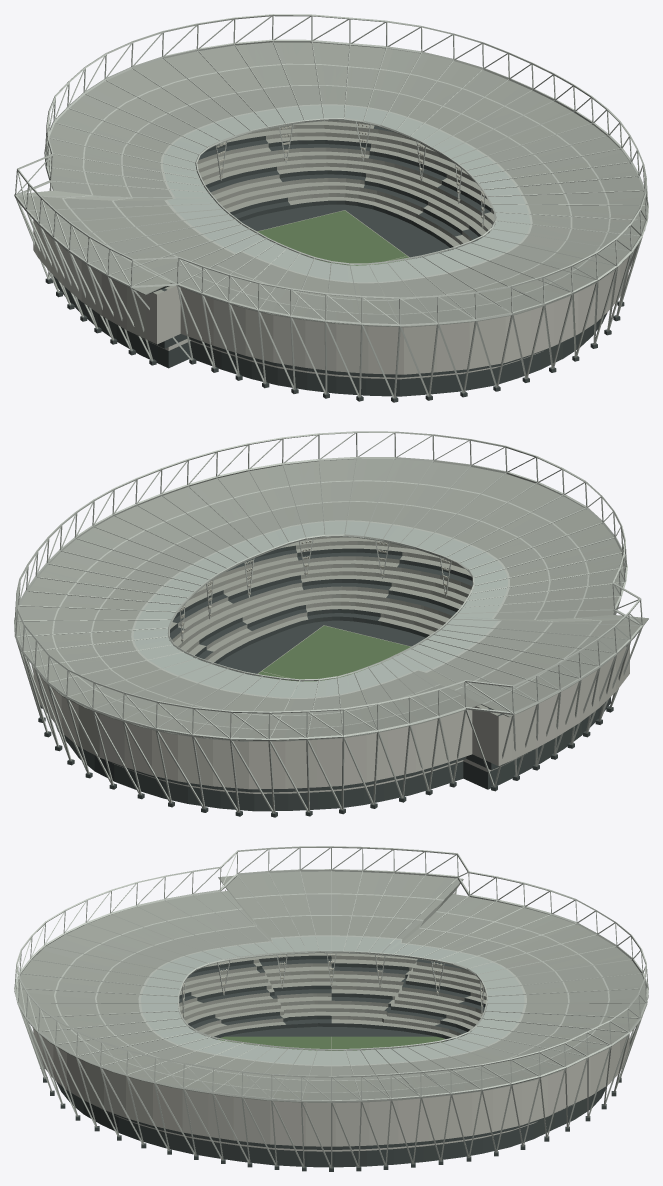
File: london-stadium-near.glb
3 views of the same model, one above another, from view 1: azimuth 30°, elevation 25°; view 2: azimuth 150°, elevation 25°; view 3: azimuth 270°, elevation 25° (orthographic). The views are drawn at different scales.
Parts seen in each view (by area): view 1: london-stadium-0-roof, london-stadium-0-steel, london-stadium-0-wrap, london-stadium-0-dark, london-stadium-0-roofglass, london-stadium-0-seats, london-stadium-0-pitch, london-stadium-0-paint; view 2: london-stadium-0-roof, london-stadium-0-steel, london-stadium-0-wrap, london-stadium-0-dark, london-stadium-0-roofglass, london-stadium-0-seats, london-stadium-0-pitch, london-stadium-0-paint; view 3: london-stadium-0-roof, london-stadium-0-steel, london-stadium-0-wrap, london-stadium-0-dark, london-stadium-0-seats, london-stadium-0-roofglass, london-stadium-0-pitch.
Boxes of the visible parts, box(x1,y1,x2,y2) form: london-stadium-0-roof: box(14, 42, 645, 327); london-stadium-0-steel: box(14, 14, 648, 398); london-stadium-0-wrap: box(33, 220, 629, 379); london-stadium-0-dark: box(45, 126, 624, 402); london-stadium-0-roofglass: box(163, 105, 530, 282); london-stadium-0-seats: box(153, 120, 494, 294); london-stadium-0-pitch: box(258, 210, 411, 265); london-stadium-0-paint: box(217, 123, 485, 264); london-stadium-0-roof: box(17, 459, 648, 741); london-stadium-0-steel: box(14, 431, 643, 813); london-stadium-0-wrap: box(33, 646, 629, 793); london-stadium-0-dark: box(38, 545, 613, 817); london-stadium-0-roofglass: box(133, 521, 507, 697); london-stadium-0-seats: box(170, 537, 500, 715); london-stadium-0-pitch: box(256, 625, 410, 681); london-stadium-0-paint: box(180, 540, 449, 681); london-stadium-0-roof: box(14, 871, 648, 1102); london-stadium-0-steel: box(14, 846, 648, 1168); london-stadium-0-wrap: box(33, 890, 629, 1151); london-stadium-0-dark: box(40, 955, 621, 1171); london-stadium-0-seats: box(179, 953, 486, 1038); london-stadium-0-roofglass: box(141, 936, 524, 1065); london-stadium-0-pitch: box(218, 1036, 444, 1050).
Bounding box in the file's own units: 253 × 53.12 × 293.
